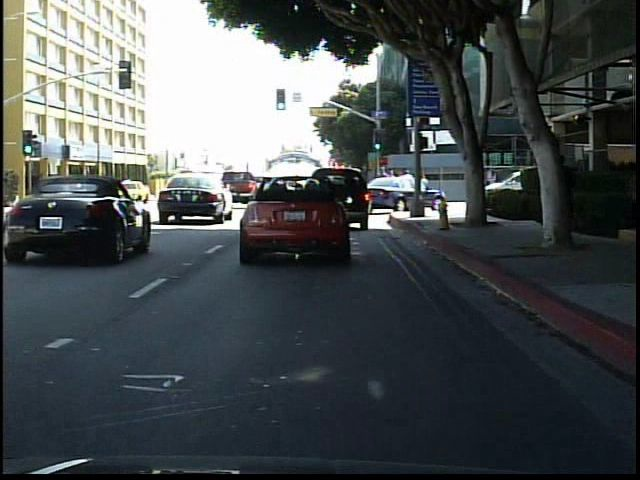person: (544, 149, 570, 240), (375, 165, 397, 211), (118, 176, 137, 203)
